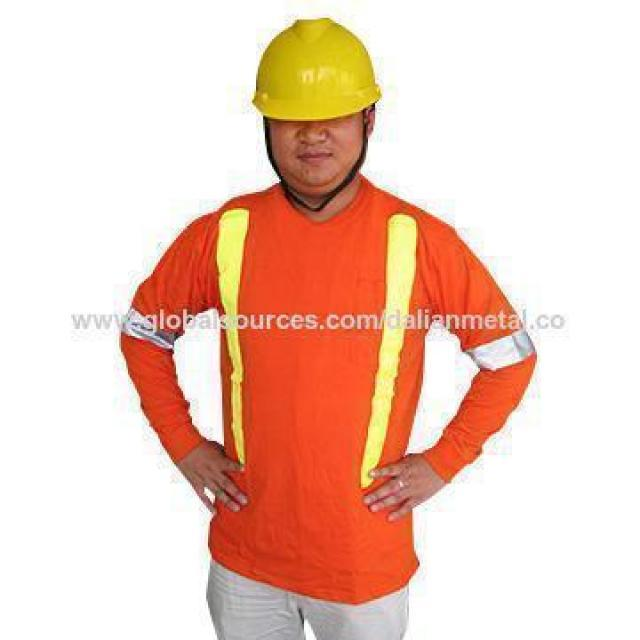helmet: (240, 18, 396, 116)
vest: (199, 208, 434, 507)
